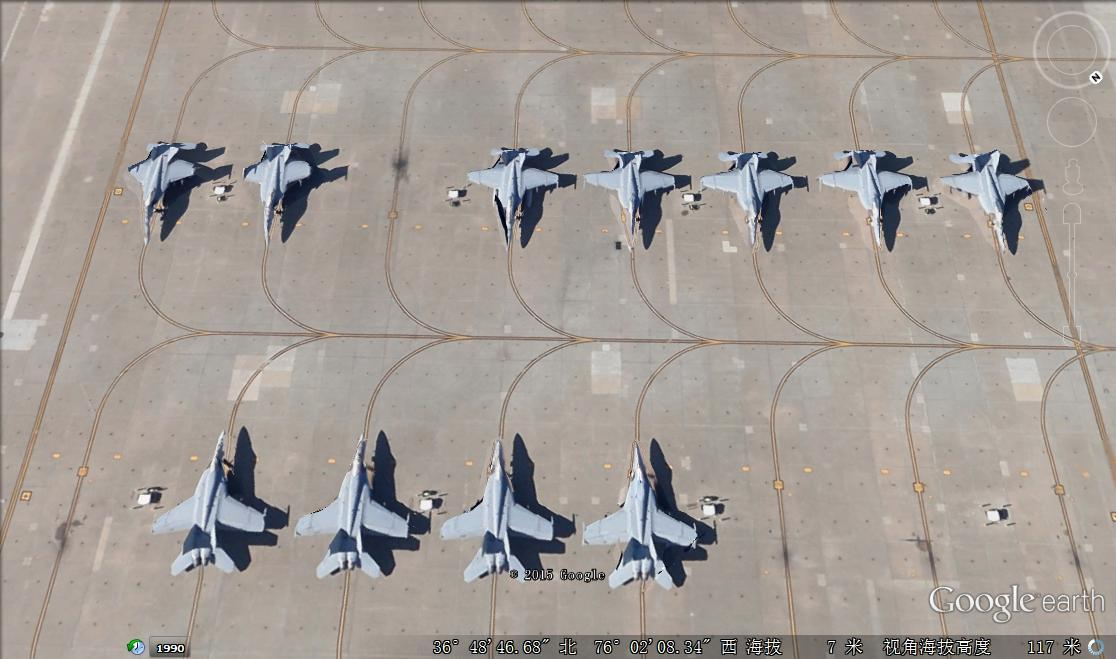F/A-18: (297, 424, 420, 580), (586, 445, 709, 595), (152, 432, 272, 582), (445, 433, 556, 582), (936, 147, 1040, 261), (822, 143, 918, 254), (585, 137, 680, 248), (468, 142, 562, 249), (703, 146, 796, 253), (125, 135, 204, 249), (243, 138, 317, 242)
